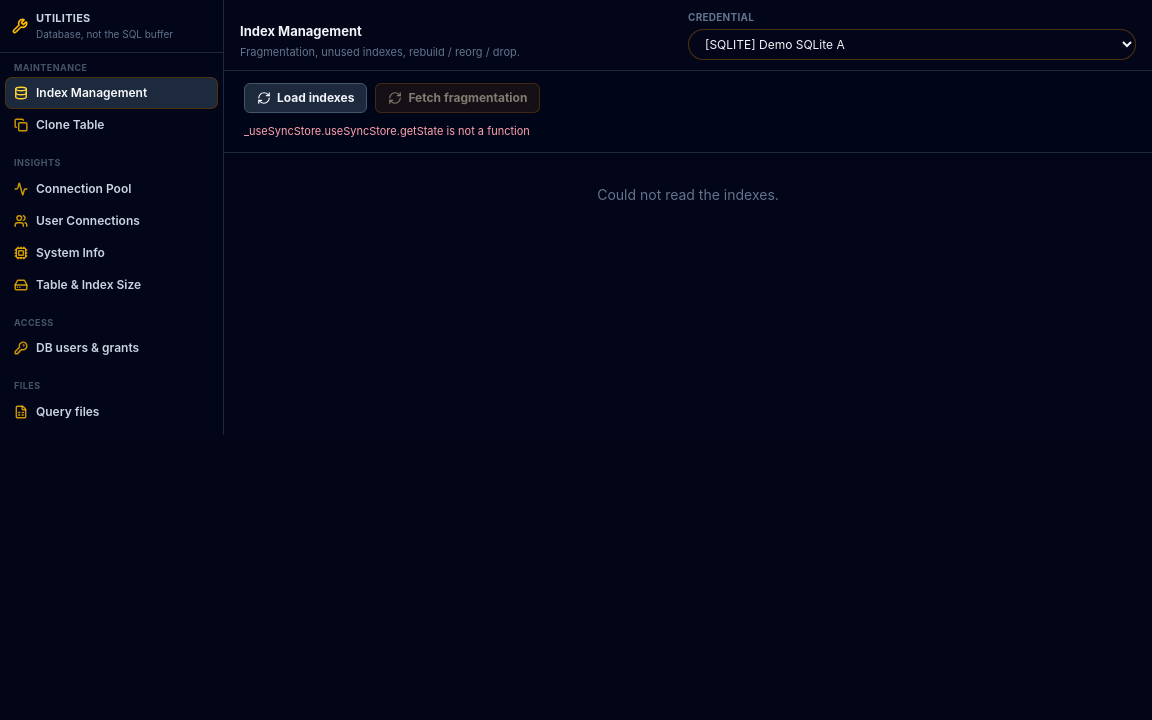
UtilitiesView › locks Clone Table and Insights to the workspace credential
Click the button with test id "utilities-clone-table": {"x": 112, "y": 125} [6, 110, 217, 140]
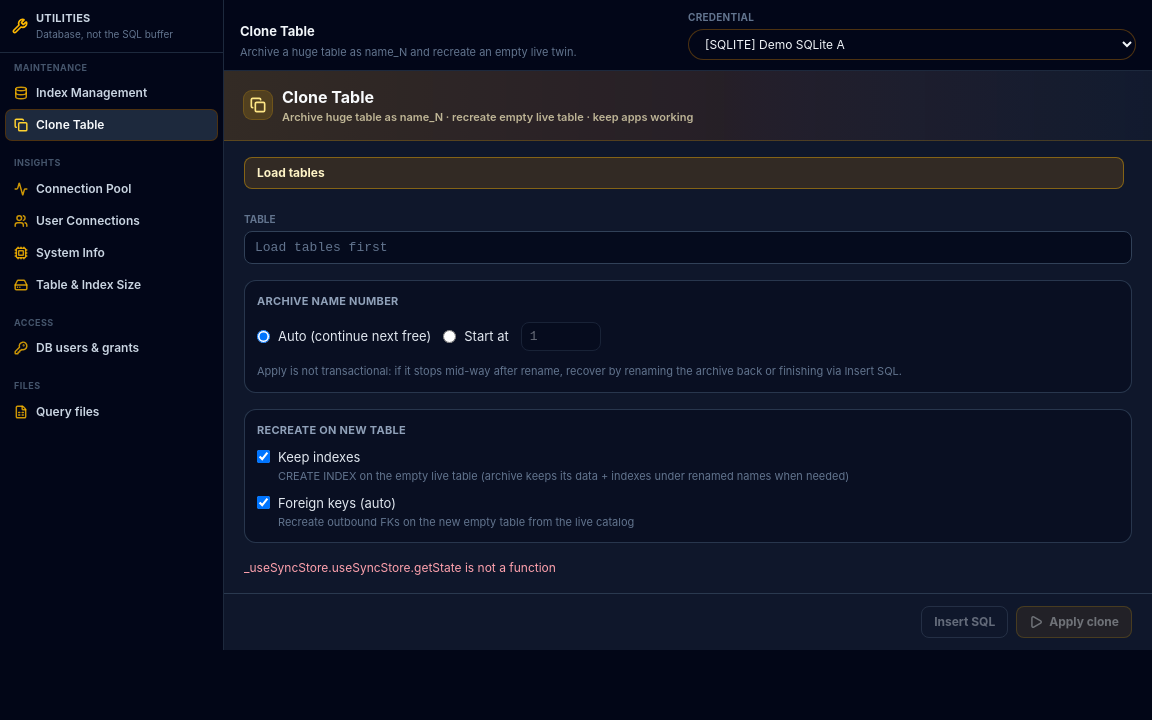
Check: the element with test id "clone-table-modal" is shown
Click the button with test id "utilities-system-info": {"x": 112, "y": 252} [6, 238, 217, 268]
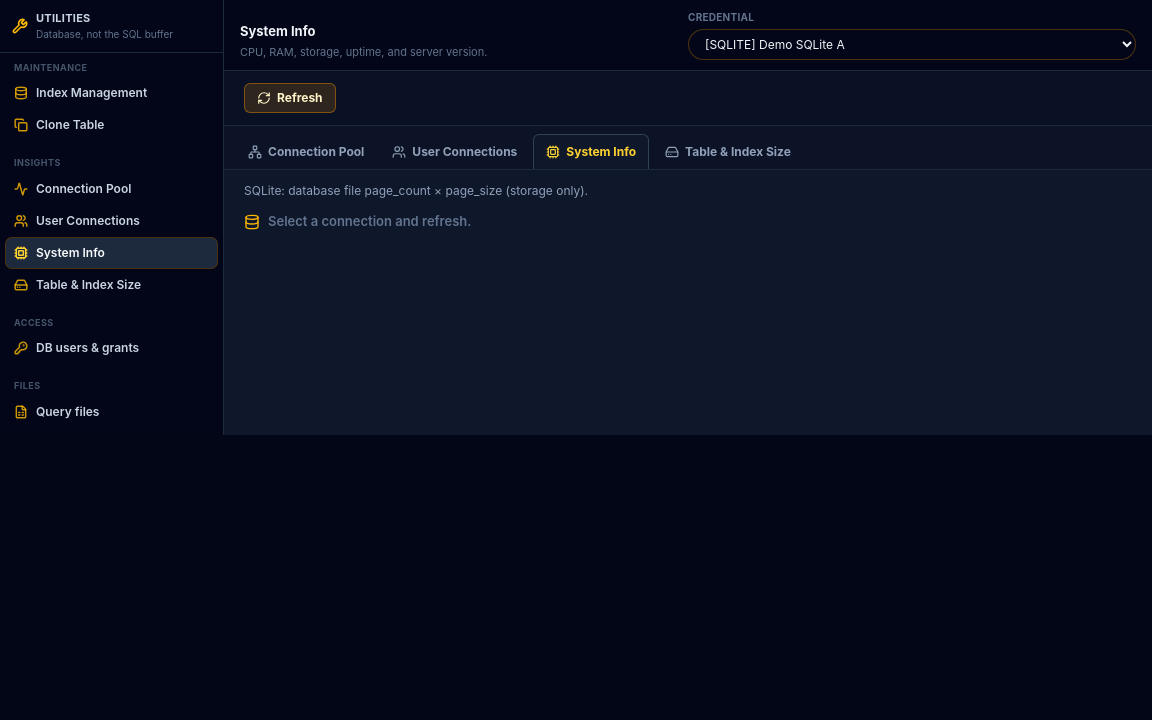
Check: the dropdown with test id "utilities-connection" is shown, box [688, 29, 1136, 60]
Check: the element with test id "server-insights-modal" is shown, box [224, 71, 1151, 434]
Check: the button with test id "server-insights-tab-system" is shown, box [533, 134, 649, 169]
